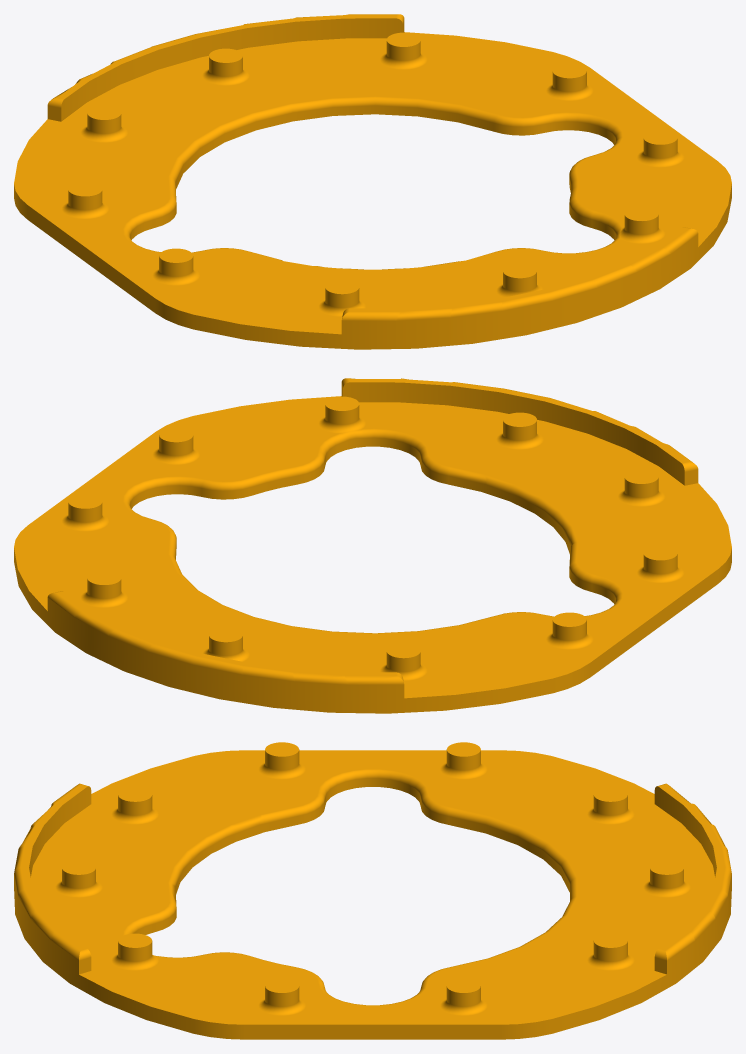
Rendered from StomaStrap105FlatSideRing001.glb.
3 renders of one model, top to bottom at view 1: azimuth 30°, elevation 25°; view 2: azimuth 150°, elevation 25°; view 3: azimuth 270°, elevation 25°, orthographic.
Visible parts, largest first — view 1: Fillet021; view 2: Fillet021; view 3: Fillet021.
Boxes of the visible parts, x1,y1,x2,y2 form: Fillet021: (14, 14, 731, 349); Fillet021: (14, 378, 731, 713); Fillet021: (14, 742, 731, 1039).
Bounding box in the file's own units: 0.095 × 0.0056 × 0.105.
